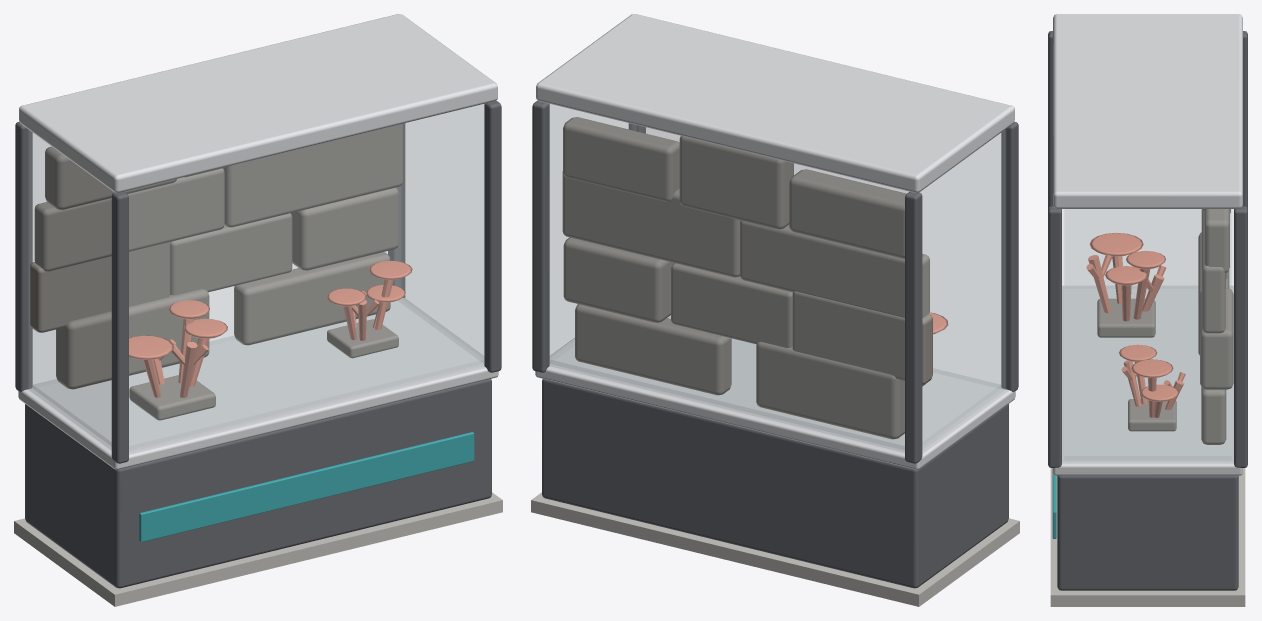
File: wall-tank.glb
3 views of the same model, side by side, from view 1: azimuth 30°, elevation 25°; view 2: azimuth 150°, elevation 25°; view 3: azimuth 270°, elevation 25° (orthographic). The views are drawn at different scales.
Parts seen in each view (by area): view 1: wall-tank-module; view 2: wall-tank-module; view 3: wall-tank-module.
Part boxes in pixels (<box>): wall-tank-module: <box>14,14,502,606</box>; wall-tank-module: <box>531,14,1019,606</box>; wall-tank-module: <box>1048,14,1247,606</box>.
Size of the model in its own units: 2 by 2.11 by 0.925.
